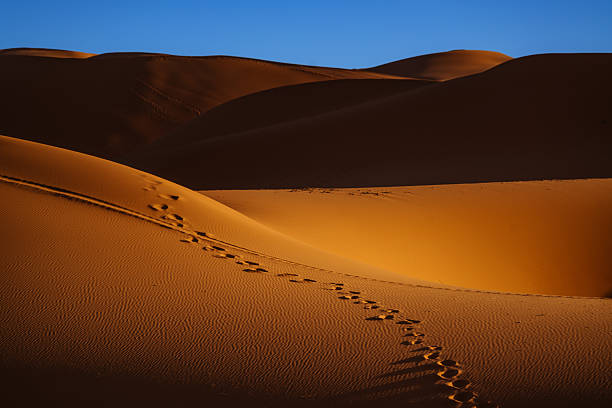animal_foot_print: (449, 390, 476, 403), (444, 378, 470, 389), (366, 314, 394, 320), (423, 351, 440, 360), (162, 213, 183, 220), (148, 203, 168, 210), (400, 339, 423, 345), (194, 231, 213, 238), (158, 194, 179, 200), (180, 236, 199, 242), (289, 278, 315, 282), (339, 294, 359, 299), (243, 268, 266, 272), (276, 273, 298, 276)
